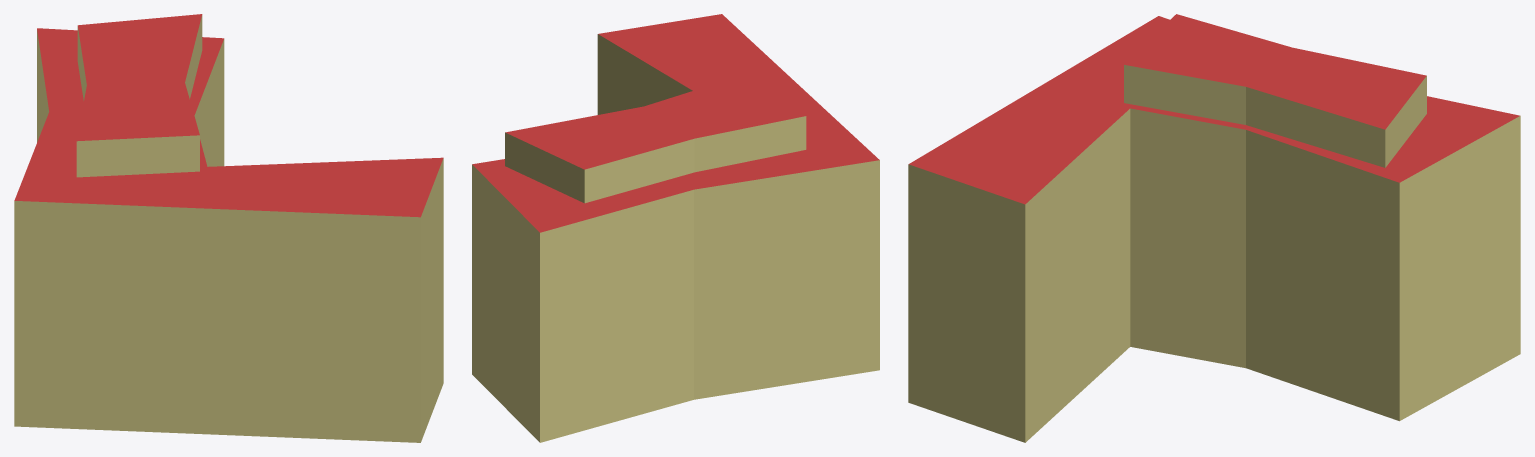
3 renders of one model, left to right at view 1: azimuth 30°, elevation 25°; view 2: azimuth 150°, elevation 25°; view 3: azimuth 270°, elevation 25°, orthographic. The views are drawn at different scales.
Parts seen in each view (by area): view 1: group_6, group_3, group_4, group_5; view 2: group_6, group_3, group_4, group_5; view 3: group_6, group_3, group_4, group_5.
Part boxes in pixels (box(x1,y1,x2,y2)): group_6: box(14, 30, 443, 442); group_3: box(14, 28, 443, 217); group_4: box(77, 14, 202, 141); group_5: box(76, 15, 202, 177); group_6: box(472, 34, 879, 442); group_3: box(472, 14, 879, 232); group_4: box(505, 76, 805, 169); group_5: box(505, 116, 806, 203); group_6: box(908, 108, 1520, 442); group_3: box(909, 16, 1519, 204); group_4: box(1124, 14, 1426, 129); group_5: box(1124, 65, 1426, 167).
Size of the model in its own units: 20.4 by 27.96 by 13.95.
